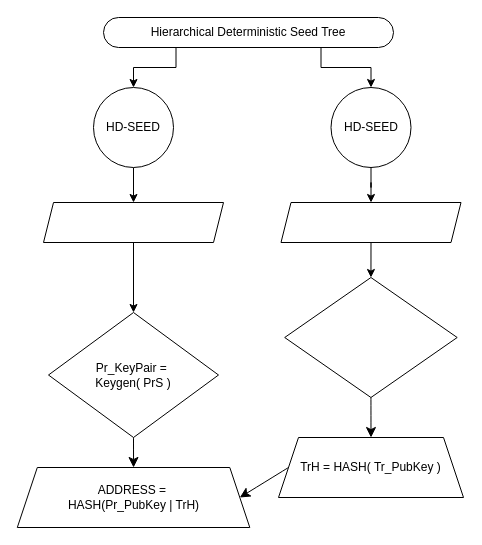
The diagram is 482 pixels wide and 545 high, and some of its shapes have lost their labels. The shapes that lost their labels are listed below. From the top down, each one's centre as x and y in pixels, then its label:
At [133,222]: "PrS = PRIMARY SEED".
At [370,222]: "TrS = TRAPDOOR SEED".
At [370,337]: "Tr_KeyPair = Keygen( TrS )".
